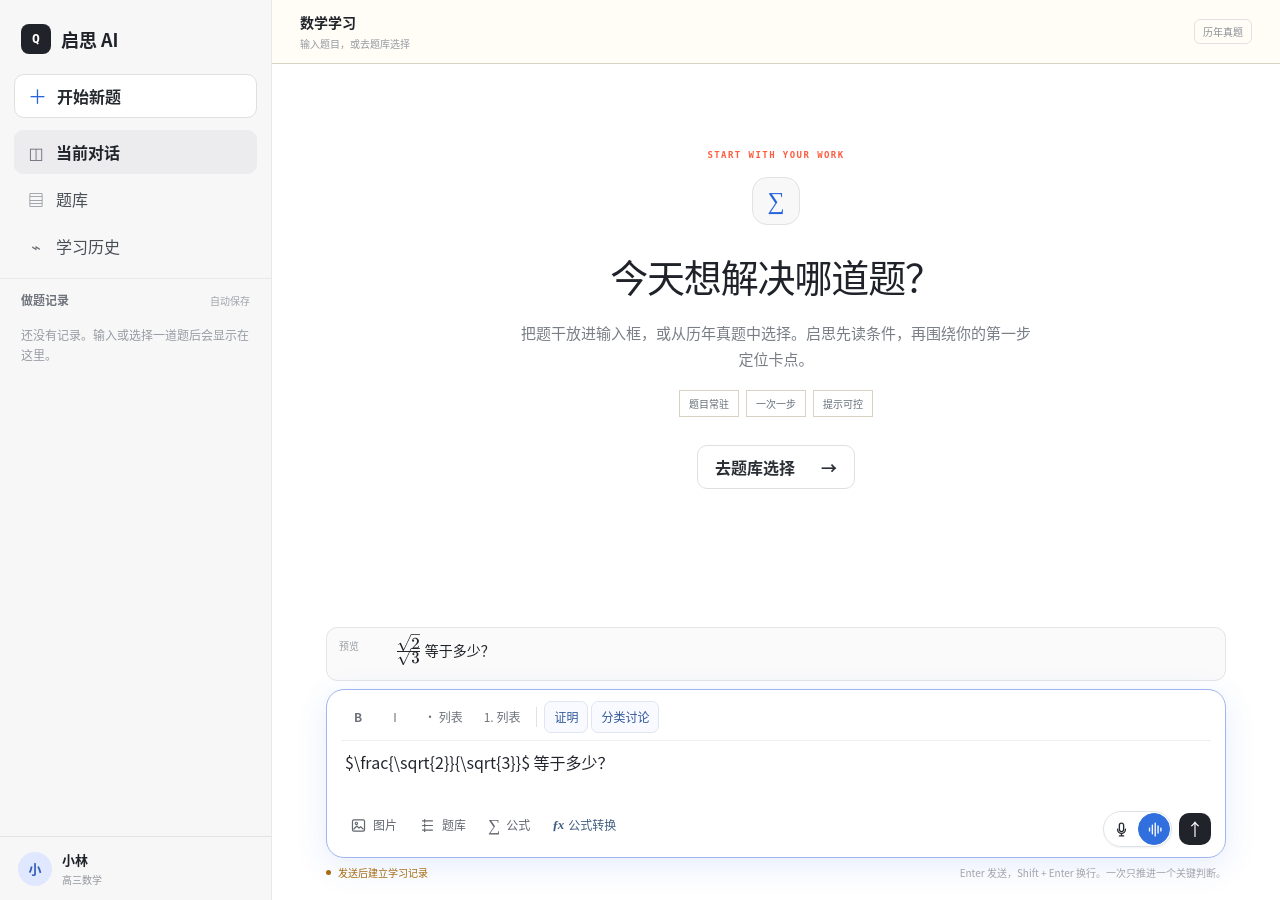
Test: App › replaces a temporary LaTeX-derived title with the persisted analysis title
The image size is (1280, 900).
Check: the heading "今天想解决哪道题？" is shown, box [610,248,942,302]
Click the button named "发送". click: (1195, 829)
box: [1179,813,1211,845]
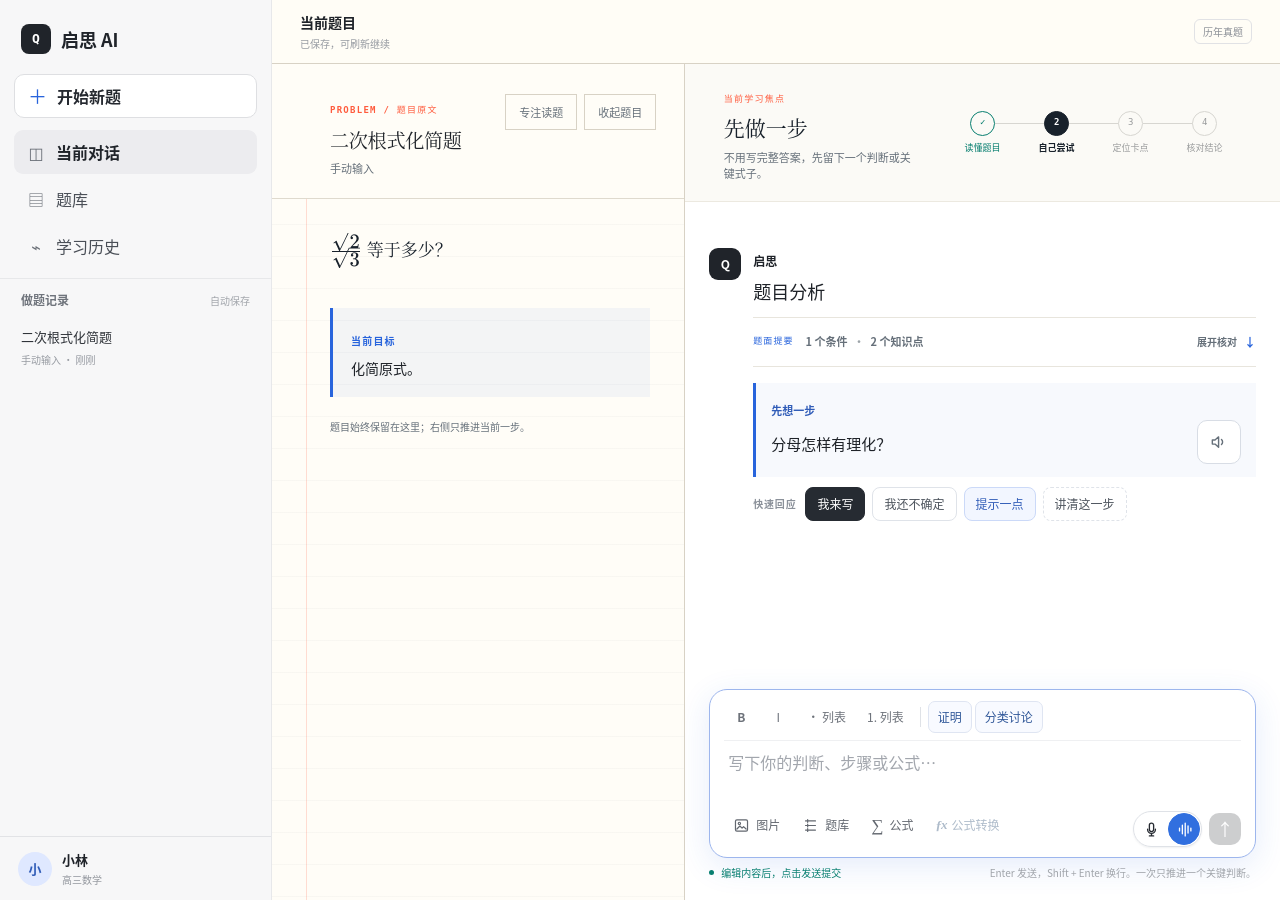
Check: the heading "二次根式化简题" is shown, box [330,127,462,153]
